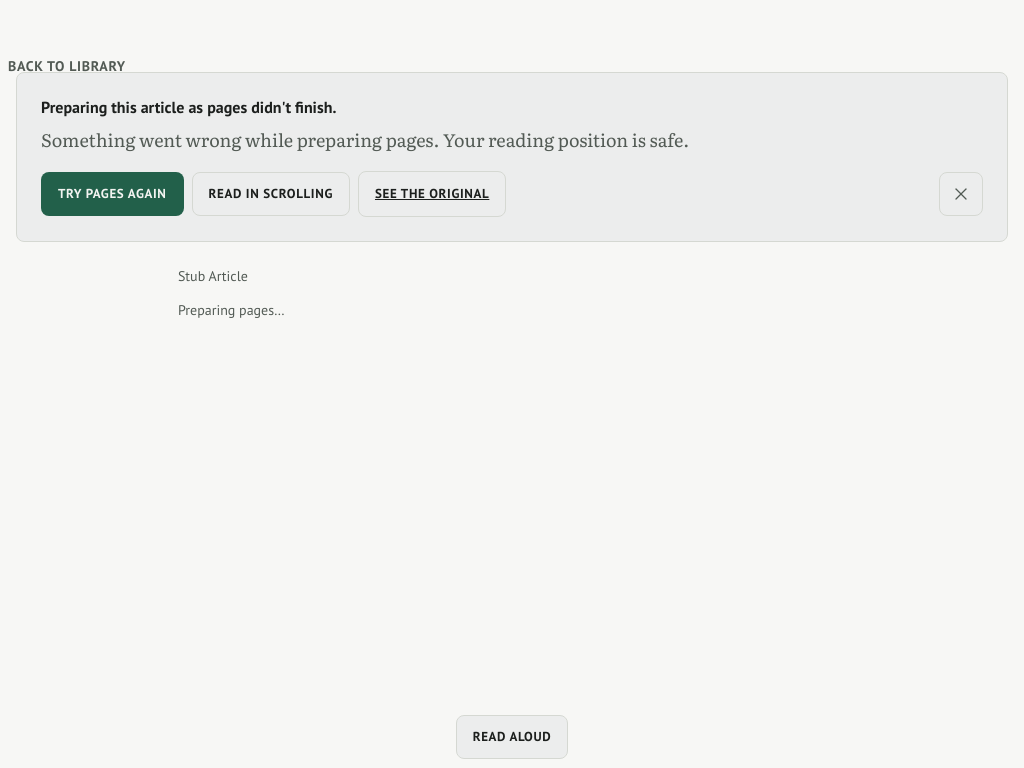
Test case: ArticleView pagination failure classes (issue #240) › a processing-error fallback does NOT flip the mode; retry clears the banner
expect the heading "Stub Article" is shown: met, box [178,266,248,286]
expect the heading "Preparing this article as pages didn't finish." is shown: met, box [41,97,336,117]
Click the button "Try pages again" at (112, 194), box [41,172,184,216]
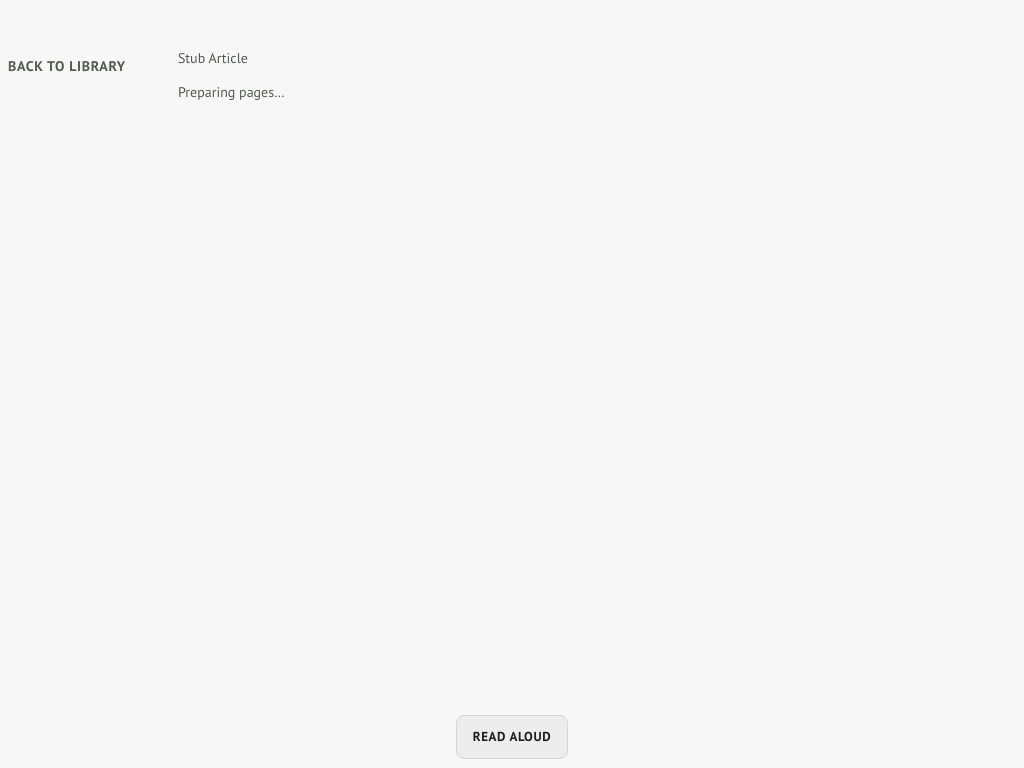
expect the heading "Preparing this article as pages didn't finish." is gone: met
